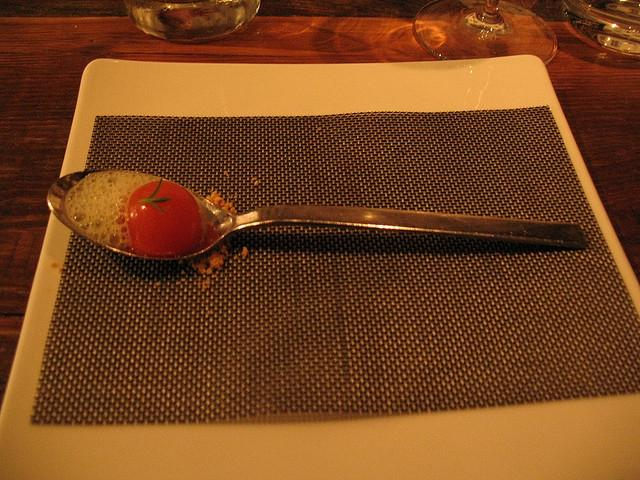tomato: (128, 178, 202, 256)
